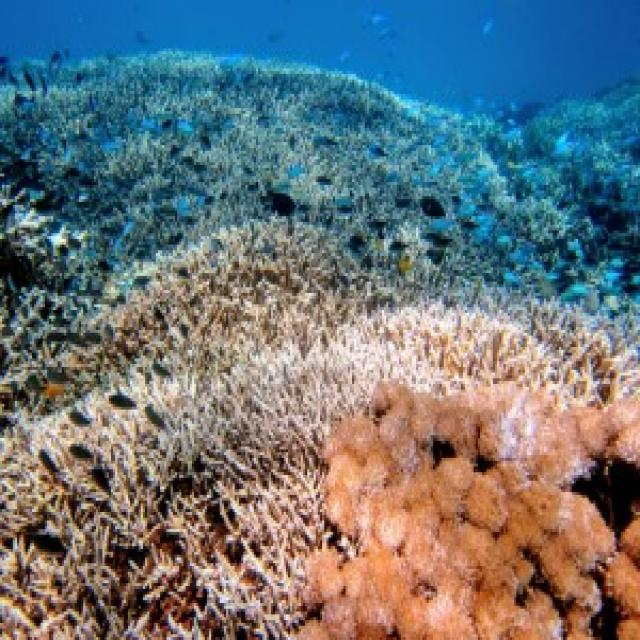Bleached: (1, 58, 573, 288)
Healthy: (1, 308, 639, 638), (300, 385, 639, 638), (74, 220, 376, 371), (1, 277, 93, 416)
